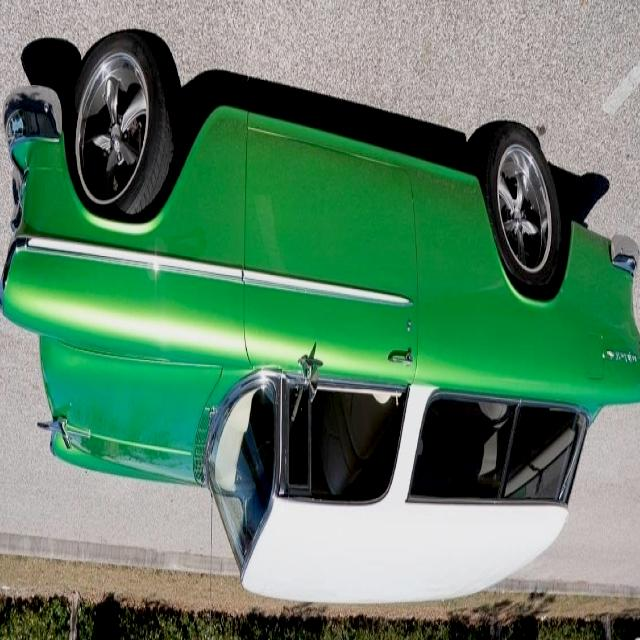green: (0, 34, 640, 603)
